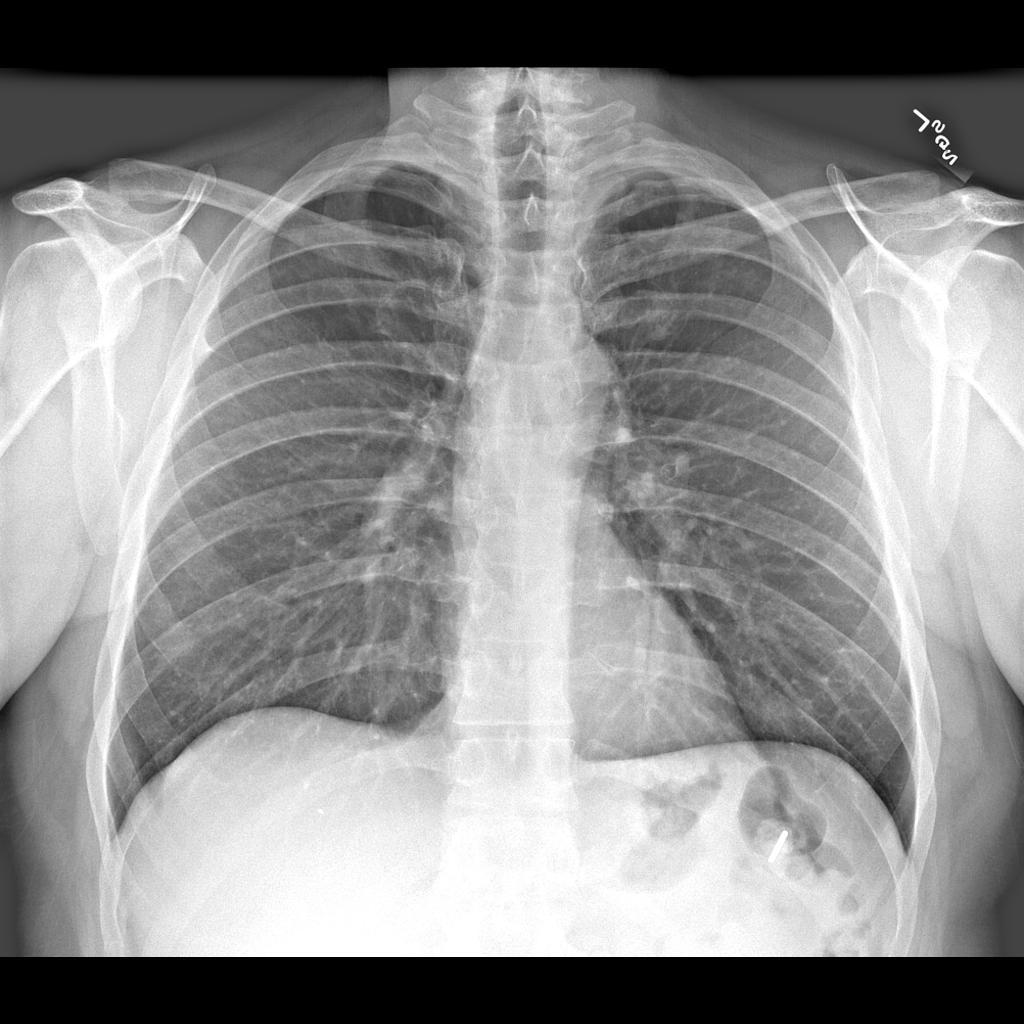Nodule: (636, 301, 690, 350)
